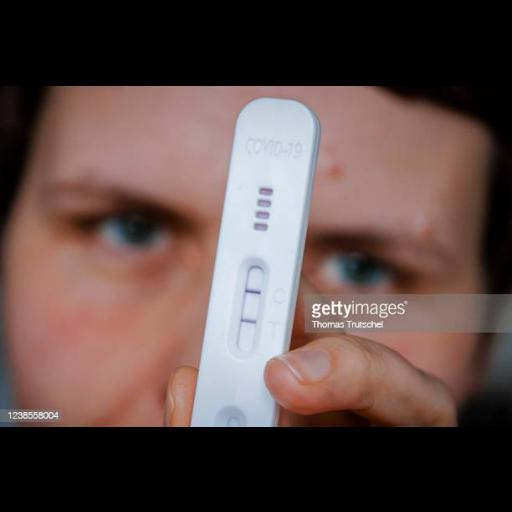Pos: (193, 99, 322, 423)
